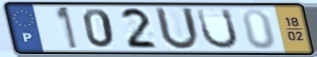0: (241, 7, 277, 51), (81, 7, 116, 50)
1: (54, 5, 81, 52)
2: (120, 6, 161, 52)
U: (152, 6, 202, 52), (195, 7, 241, 51)
